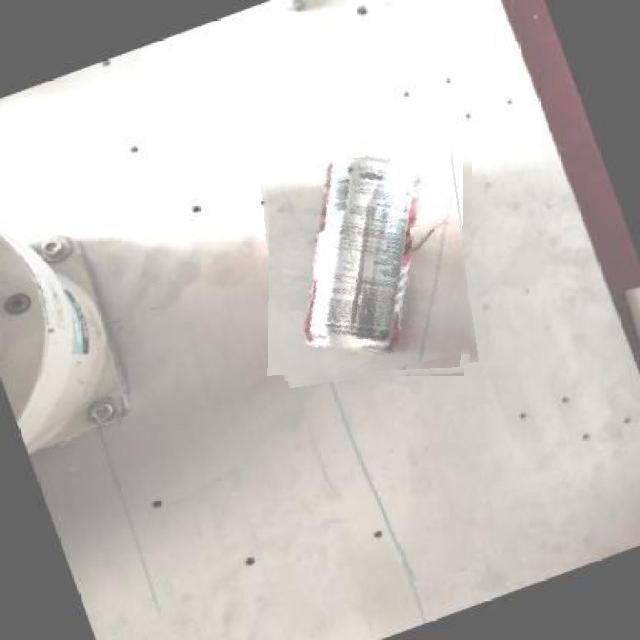recyclable: (264, 132, 473, 382)
